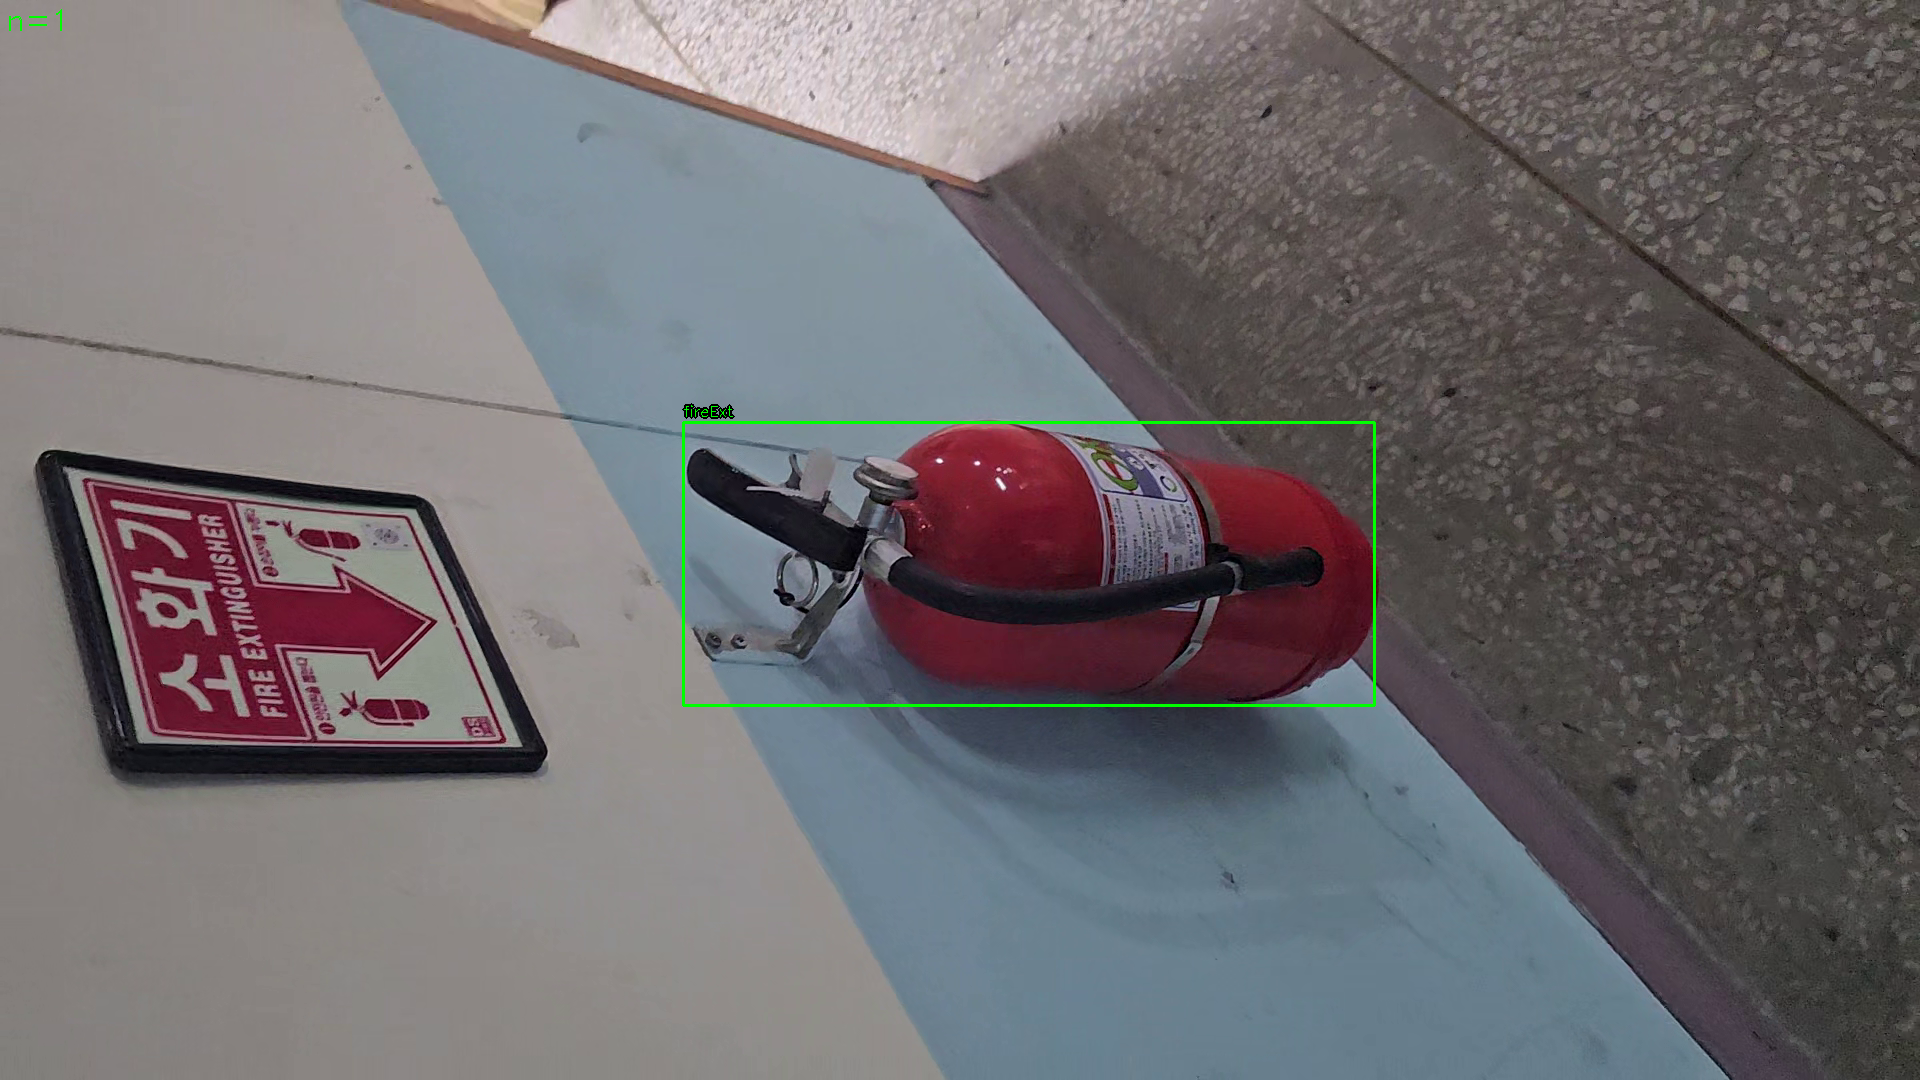lane: (683, 422, 1375, 705)
